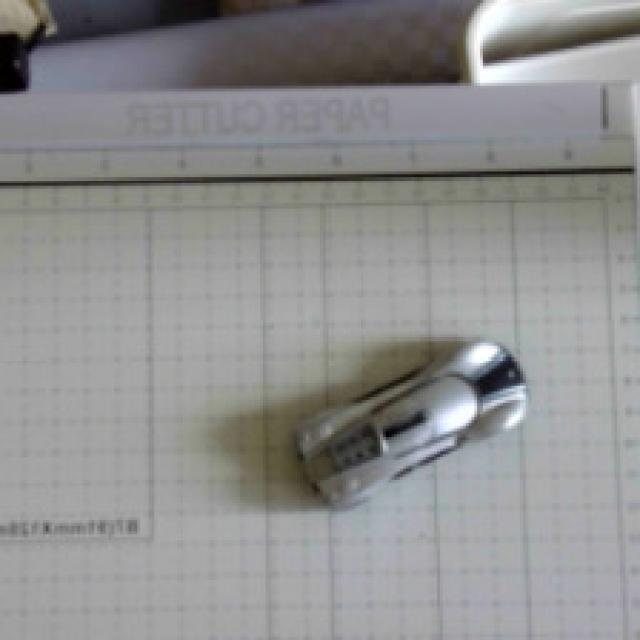Grey Car: (265, 331, 561, 525)
